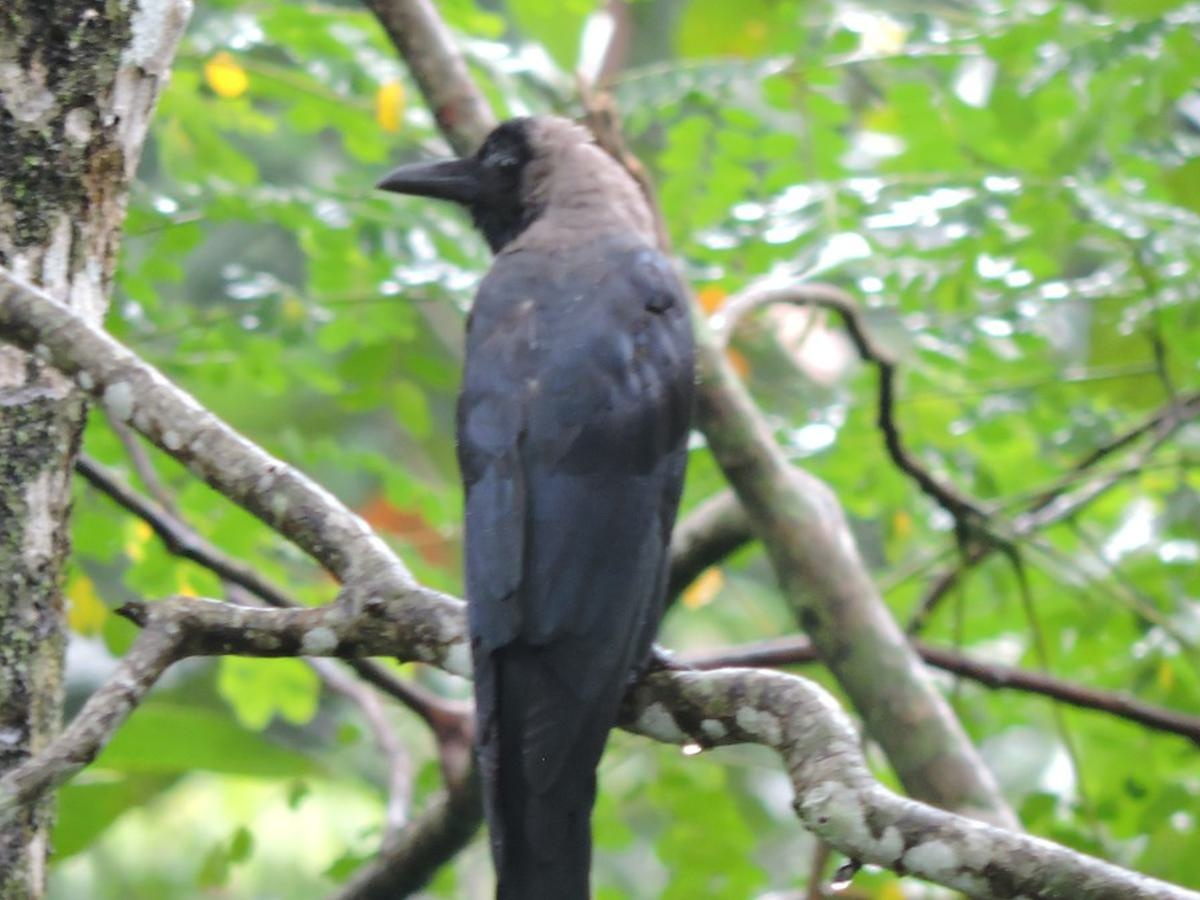crow: (387, 94, 717, 900)
